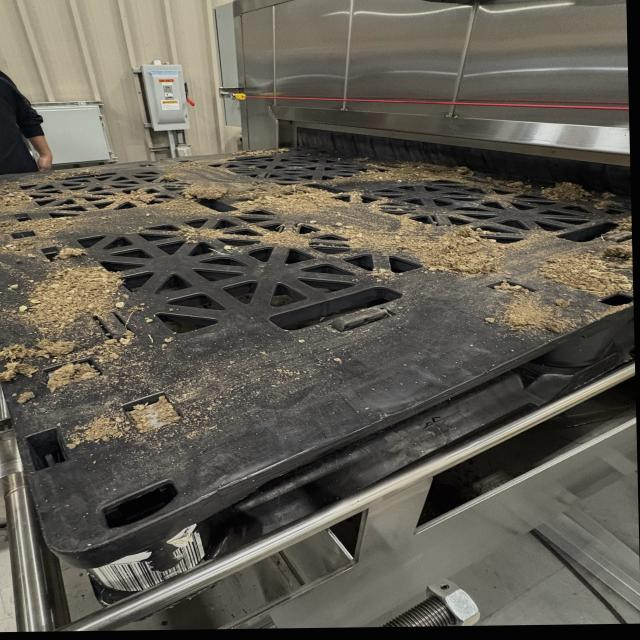igps: (0, 138, 640, 628)
